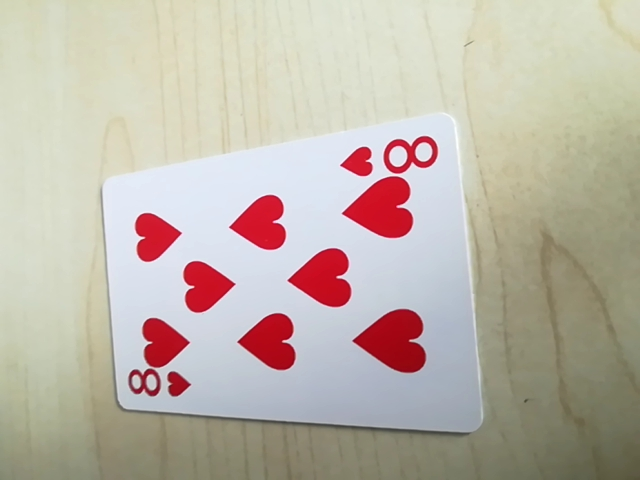hx 8: (341, 128, 444, 181), (121, 364, 192, 407)
